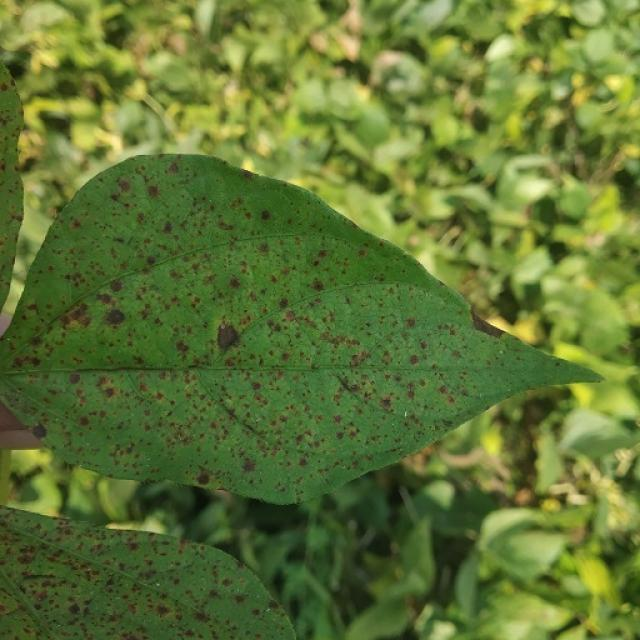Anthracnose: (219, 281, 463, 369), (183, 164, 385, 267), (450, 293, 604, 390), (197, 455, 349, 507), (31, 445, 190, 485), (208, 376, 294, 444), (85, 567, 168, 626), (135, 392, 212, 455), (168, 164, 251, 219), (0, 179, 21, 334), (455, 263, 507, 321), (2, 372, 51, 429), (25, 364, 231, 377), (94, 474, 137, 523), (207, 318, 249, 354), (236, 256, 258, 294), (363, 168, 392, 195), (61, 304, 90, 328), (375, 441, 409, 461), (2, 363, 38, 380), (104, 308, 125, 326), (12, 355, 34, 368), (21, 571, 50, 580), (116, 178, 132, 194), (108, 279, 124, 292), (140, 568, 156, 581), (227, 276, 241, 290), (147, 184, 160, 198), (175, 340, 188, 354), (194, 611, 209, 623), (68, 372, 81, 385), (79, 602, 91, 616), (283, 310, 297, 322), (167, 162, 179, 175), (68, 603, 80, 615), (11, 211, 23, 223), (103, 387, 116, 398), (162, 221, 173, 233), (78, 415, 90, 426), (258, 242, 269, 254), (234, 594, 247, 604), (70, 218, 81, 229), (104, 576, 114, 588), (146, 256, 157, 266), (110, 193, 120, 203), (2, 335, 9, 342), (403, 411, 409, 419)
Blackgram: (0, 156, 599, 502)
